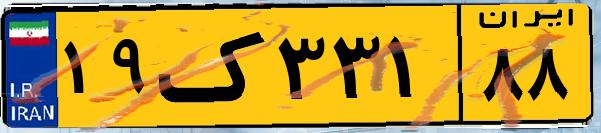1: (385, 28, 445, 110), (57, 26, 110, 100)
3: (270, 28, 330, 110), (330, 28, 385, 110)
8: (475, 38, 525, 113), (525, 38, 570, 115)
9: (110, 28, 158, 98)
ک: (158, 12, 270, 120)
